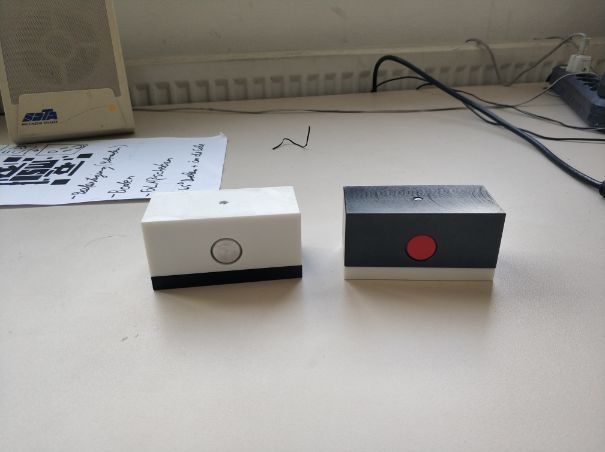black+white+silver: (138, 183, 307, 294)
white+black+red: (340, 184, 508, 285)
